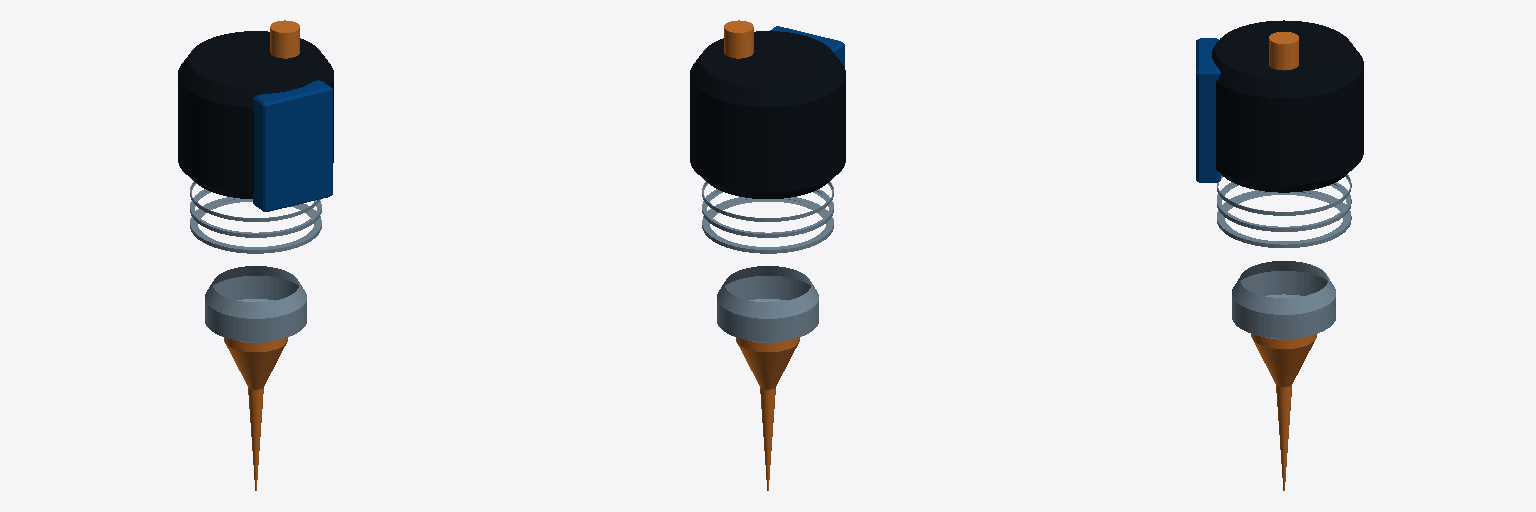
The robot description file, URDF, robot "Fixed 长嘴切割头":
<?xml version='1.0' encoding='utf-8'?>
<robot name="Fixed 长嘴切割头">
  <link name="刀头安装基准" />
  <joint name="head_mount" type="fixed">
    <parent link="刀头安装基准" />
    <child link="固定激光切割头" />
    <origin xyz="0.00299999862909317 -0.003 -0.9019999676942825" />
  </joint>
  <link name="固定激光切割头">
    <icax_tool name="GF-3015 物理喷嘴" type="laser_cutting_head" tcp_mm="0 3 -227.7" beam="0 0 -1" />
    <visual name="laser_head_dark">
      <origin xyz="-0.0 0.003 0.1025" />
      <geometry>
        <mesh filename="meshes/bare_laser_head_dark.stl" />
      </geometry>
      <material name="dark">
        <color rgba="0.075 0.1 0.13 1" />
      </material>
    </visual>
    <visual name="laser_head_shell">
      <origin xyz="-0.0 0.003 0.1025" />
      <geometry>
        <mesh filename="meshes/bare_laser_head_shell.stl" />
      </geometry>
      <material name="shell">
        <color rgba="0.8 0.83 0.85 1" />
      </material>
    </visual>
    <visual name="laser_head_steel">
      <origin xyz="-0.0 0.003 0.1025" />
      <geometry>
        <mesh filename="meshes/bare_laser_head_steel.stl" />
      </geometry>
      <material name="steel">
        <color rgba="0.48 0.56 0.62 1" />
      </material>
    </visual>
    <visual name="laser_head_copper">
      <origin xyz="-0.0 0.003 0.1025" />
      <geometry>
        <mesh filename="meshes/bare_laser_head_copper.stl" />
      </geometry>
      <material name="copper">
        <color rgba="0.8 0.46 0.18 1" />
      </material>
    </visual>
    <visual name="laser_head_black">
      <origin xyz="-0.0 0.003 0.1025" />
      <geometry>
        <mesh filename="meshes/bare_laser_head_black.stl" />
      </geometry>
      <material name="black">
        <color rgba="0.024 0.032 0.044 1" />
      </material>
    </visual>
    <visual name="laser_head_blue">
      <origin xyz="-0.0 0.003 0.1025" />
      <geometry>
        <mesh filename="meshes/bare_laser_head_blue.stl" />
      </geometry>
      <material name="blue">
        <color rgba="0.035 0.29 0.52 1" />
      </material>
    </visual>
    <collision name="laser_head_box_1">
      <origin xyz="0 0.001 0.0785" />
      <geometry>
        <box size="0.116004 0.124004 0.096004" />
      </geometry>
    </collision>
    <collision name="laser_head_box_2">
      <origin xyz="0 0.003 -0.0095" />
      <geometry>
        <box size="0.098004 0.098004 0.104004" />
      </geometry>
    </collision>
    <collision name="laser_head_box_3">
      <origin xyz="0 0.003 -0.0765" />
      <geometry>
        <box size="0.076004 0.076004 0.038004" />
      </geometry>
    </collision>
    <collision name="laser_head_box_4">
      <origin xyz="0 0.003 -0.1145" />
      <geometry>
        <box size="0.048004 0.048004 0.054004" />
      </geometry>
    </collision>
    <collision name="laser_head_box_6">
      <origin xyz="0.025 0.003 0.1345" />
      <geometry>
        <box size="0.022004 0.022004 0.026004" />
      </geometry>
    </collision>
    <collision name="laser_head_box_5_01">
      <origin xyz="0 0.003 -0.1425" />
      <geometry>
        <box size="0.0120020004056987 0.0120020004056987 0.002002" />
      </geometry>
    </collision>
    <collision name="laser_head_box_5_02">
      <origin xyz="0 0.003 -0.1445" />
      <geometry>
        <box size="0.0117461864427754 0.0117461864427754 0.002002" />
      </geometry>
    </collision>
    <collision name="laser_head_box_5_03">
      <origin xyz="0 0.003 -0.1465" />
      <geometry>
        <box size="0.0114903724798522 0.0114903724798522 0.002002" />
      </geometry>
    </collision>
    <collision name="laser_head_box_5_04">
      <origin xyz="0 0.003 -0.1485" />
      <geometry>
        <box size="0.011234558516929 0.011234558516929 0.002002" />
      </geometry>
    </collision>
    <collision name="laser_head_box_5_05">
      <origin xyz="0 0.003 -0.1505" />
      <geometry>
        <box size="0.0109787445540058 0.0109787445540058 0.002002" />
      </geometry>
    </collision>
    <collision name="laser_head_box_5_06">
      <origin xyz="0 0.003 -0.1525" />
      <geometry>
        <box size="0.0107229305910825 0.0107229305910825 0.002002" />
      </geometry>
    </collision>
    <collision name="laser_head_box_5_07">
      <origin xyz="0 0.003 -0.1545" />
      <geometry>
        <box size="0.0104671166281593 0.0104671166281593 0.002002" />
      </geometry>
    </collision>
    <collision name="laser_head_box_5_08">
      <origin xyz="0 0.003 -0.1565" />
      <geometry>
        <box size="0.0102113026652361 0.0102113026652361 0.00200199999999997" />
      </geometry>
    </collision>
    <collision name="laser_head_box_5_09">
      <origin xyz="0 0.003 -0.1585" />
      <geometry>
        <box size="0.00995548870231288 0.00995548870231288 0.002002" />
      </geometry>
    </collision>
    <collision name="laser_head_box_5_10">
      <origin xyz="0 0.003 -0.1605" />
      <geometry>
        <box size="0.00969967473938965 0.00969967473938965 0.002002" />
      </geometry>
    </collision>
    <collision name="laser_head_box_5_11">
      <origin xyz="0 0.003 -0.1625" />
      <geometry>
        <box size="0.00944386077646643 0.00944386077646643 0.002002" />
      </geometry>
    </collision>
    <collision name="laser_head_box_5_12">
      <origin xyz="0 0.003 -0.1645" />
      <geometry>
        <box size="0.0091880468135432 0.0091880468135432 0.002002" />
      </geometry>
    </collision>
    <collision name="laser_head_box_5_13">
      <origin xyz="0 0.003 -0.1665" />
      <geometry>
        <box size="0.00893223285061998 0.00893223285061998 0.002002" />
      </geometry>
    </collision>
    <collision name="laser_head_box_5_14">
      <origin xyz="0 0.003 -0.1685" />
      <geometry>
        <box size="0.00867641888769675 0.00867641888769675 0.002002" />
      </geometry>
    </collision>
    <collision name="laser_head_box_5_15">
      <origin xyz="0 0.003 -0.1705" />
      <geometry>
        <box size="0.00842060492477353 0.00842060492477353 0.002002" />
      </geometry>
    </collision>
    <collision name="laser_head_box_5_16">
      <origin xyz="0 0.003 -0.1725" />
      <geometry>
        <box size="0.0081647909618503 0.0081647909618503 0.002002" />
      </geometry>
    </collision>
    <collision name="laser_head_box_5_17">
      <origin xyz="0 0.003 -0.1745" />
      <geometry>
        <box size="0.00790897699892707 0.00790897699892707 0.002002" />
      </geometry>
    </collision>
    <collision name="laser_head_box_5_18">
      <origin xyz="0 0.003 -0.1765" />
      <geometry>
        <box size="0.00765316303600385 0.00765316303600385 0.002002" />
      </geometry>
    </collision>
    <collision name="laser_head_box_5_19">
      <origin xyz="0 0.003 -0.1785" />
      <geometry>
        <box size="0.00739734907308062 0.00739734907308062 0.002002" />
      </geometry>
    </collision>
    <collision name="laser_head_box_5_20">
      <origin xyz="0 0.003 -0.1805" />
      <geometry>
        <box size="0.0071415351101574 0.0071415351101574 0.002002" />
      </geometry>
    </collision>
    <collision name="laser_head_box_5_21">
      <origin xyz="0 0.003 -0.1825" />
      <geometry>
        <box size="0.00688572114723417 0.00688572114723417 0.002002" />
      </geometry>
    </collision>
    <collision name="laser_head_box_5_22">
      <origin xyz="0 0.003 -0.1845" />
      <geometry>
        <box size="0.00662990718431095 0.00662990718431095 0.002002" />
      </geometry>
    </collision>
    <collision name="laser_head_box_5_23">
      <origin xyz="0 0.003 -0.1865" />
      <geometry>
        <box size="0.00637409322138772 0.00637409322138772 0.00200199999999997" />
      </geometry>
    </collision>
    <collision name="laser_head_box_5_24">
      <origin xyz="0 0.003 -0.1885" />
      <geometry>
        <box size="0.0061182792584645 0.0061182792584645 0.00200200000000003" />
      </geometry>
    </collision>
    <collision name="laser_head_box_5_25">
      <origin xyz="0 0.003 -0.1905" />
      <geometry>
        <box size="0.00586246529554127 0.00586246529554127 0.00200199999999997" />
      </geometry>
    </collision>
    <collision name="laser_head_box_5_26">
      <origin xyz="0 0.003 -0.1925" />
      <geometry>
        <box size="0.00560665133261805 0.00560665133261805 0.002002" />
      </geometry>
    </collision>
    <collision name="laser_head_box_5_27">
      <origin xyz="0 0.003 -0.1945" />
      <geometry>
        <box size="0.00535083736969483 0.00535083736969483 0.002002" />
      </geometry>
    </collision>
    <collision name="laser_head_box_5_28">
      <origin xyz="0 0.003 -0.1965" />
      <geometry>
        <box size="0.0050950234067716 0.0050950234067716 0.002002" />
      </geometry>
    </collision>
    <collision name="laser_head_box_5_29">
      <origin xyz="0 0.003 -0.1985" />
      <geometry>
        <box size="0.00483920944384838 0.00483920944384838 0.002002" />
      </geometry>
    </collision>
    <collision name="laser_head_box_5_30">
      <origin xyz="0 0.003 -0.2005" />
      <geometry>
        <box size="0.00458339548092515 0.00458339548092515 0.002002" />
      </geometry>
    </collision>
    <collision name="laser_head_box_5_31">
      <origin xyz="0 0.003 -0.2025" />
      <geometry>
        <box size="0.00432758151800192 0.00432758151800192 0.002002" />
      </geometry>
    </collision>
    <collision name="laser_head_box_5_32">
      <origin xyz="0 0.003 -0.2045" />
      <geometry>
        <box size="0.0040717675550787 0.0040717675550787 0.002002" />
      </geometry>
    </collision>
    <collision name="laser_head_box_5_33">
      <origin xyz="0 0.003 -0.2065" />
      <geometry>
        <box size="0.00381595359215547 0.00381595359215547 0.00200199999999997" />
      </geometry>
    </collision>
    <collision name="laser_head_box_5_34">
      <origin xyz="0 0.003 -0.2085" />
      <geometry>
        <box size="0.00356013962923225 0.00356013962923225 0.00200200000000003" />
      </geometry>
    </collision>
    <collision name="laser_head_box_5_35">
      <origin xyz="0 0.003 -0.2105" />
      <geometry>
        <box size="0.00330432566630902 0.00330432566630902 0.00200199999999997" />
      </geometry>
    </collision>
    <collision name="laser_head_box_5_36">
      <origin xyz="0 0.003 -0.2125" />
      <geometry>
        <box size="0.0030485117033858 0.0030485117033858 0.002002" />
      </geometry>
    </collision>
    <collision name="laser_head_box_5_37">
      <origin xyz="0 0.003 -0.2145" />
      <geometry>
        <box size="0.00279269774046258 0.00279269774046258 0.002002" />
      </geometry>
    </collision>
    <collision name="laser_head_box_5_38">
      <origin xyz="0 0.003 -0.2165" />
      <geometry>
        <box size="0.00253688377753935 0.00253688377753935 0.002002" />
      </geometry>
    </collision>
    <collision name="laser_head_box_5_39">
      <origin xyz="0 0.003 -0.2185" />
      <geometry>
        <box size="0.00228106981461613 0.00228106981461613 0.002002" />
      </geometry>
    </collision>
    <collision name="laser_head_box_5_40">
      <origin xyz="0 0.003 -0.2205" />
      <geometry>
        <box size="0.0020252558516929 0.0020252558516929 0.002002" />
      </geometry>
    </collision>
    <collision name="laser_head_box_5_41">
      <origin xyz="0 0.003 -0.2225" />
      <geometry>
        <box size="0.00176944188876967 0.00176944188876967 0.002002" />
      </geometry>
    </collision>
    <collision name="laser_head_box_5_42">
      <origin xyz="0 0.003 -0.2245" />
      <geometry>
        <box size="0.00151362792584645 0.00151362792584645 0.002002" />
      </geometry>
    </collision>
    <collision name="laser_head_box_5_43">
      <origin xyz="0 0.003 -0.2265" />
      <geometry>
        <box size="0.00125781396292322 0.00125781396292322 0.002002" />
      </geometry>
    </collision>
  </link>
</robot>

--- Facts derived from the render (not from the file) ---
The picture shows the robot from 3 angles, left to right: view 1: azimuth 30°, elevation 25°; view 2: azimuth 150°, elevation 25°; view 3: azimuth 270°, elevation 25°; orthographic projection.
Model Fixed 长嘴切割头 with 2 links and 1 joints (1 fixed), rooted at 刀头安装基准, posed every joint at zero.
Visible links, largest first — view 1: 固定激光切割头; view 2: 固定激光切割头; view 3: 固定激光切割头.
Boxes of the visible links, <box> form: 固定激光切割头: <box>178,20,333,490</box>; 固定激光切割头: <box>690,20,845,490</box>; 固定激光切割头: <box>1196,20,1363,490</box>.
Bounding box of the posed robot: 0.116 × 0.122 × 0.375 m (x, y, z).
Meshes: 6 distinct files referenced, 5 mesh visuals loaded (5 binary STL); not drawn: 1 (reference not matched to a file when rendering).
